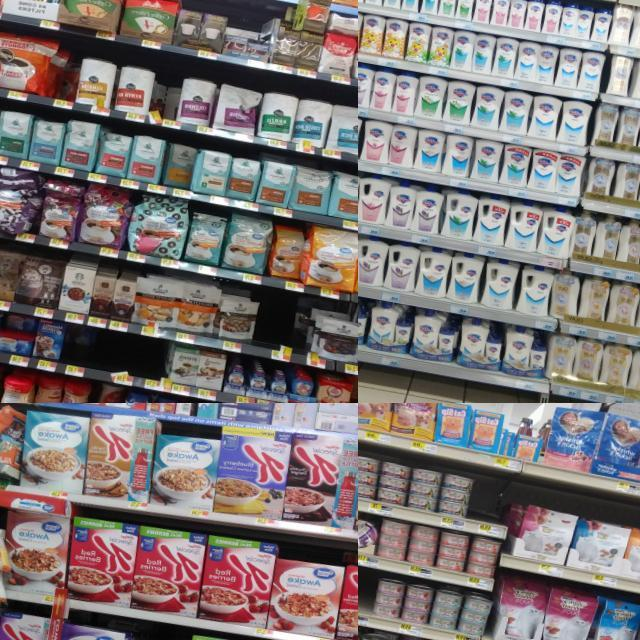empty: (254, 290, 294, 360), (92, 328, 142, 384), (466, 478, 508, 536), (136, 338, 166, 389), (358, 563, 377, 625)
